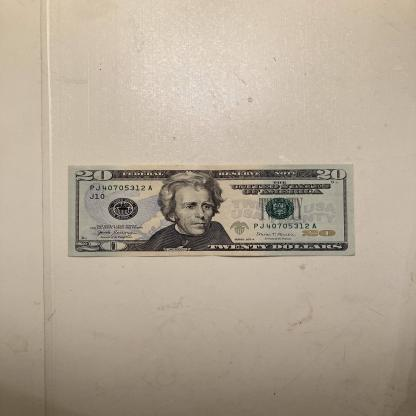twenty-front: (68, 165, 355, 257)
